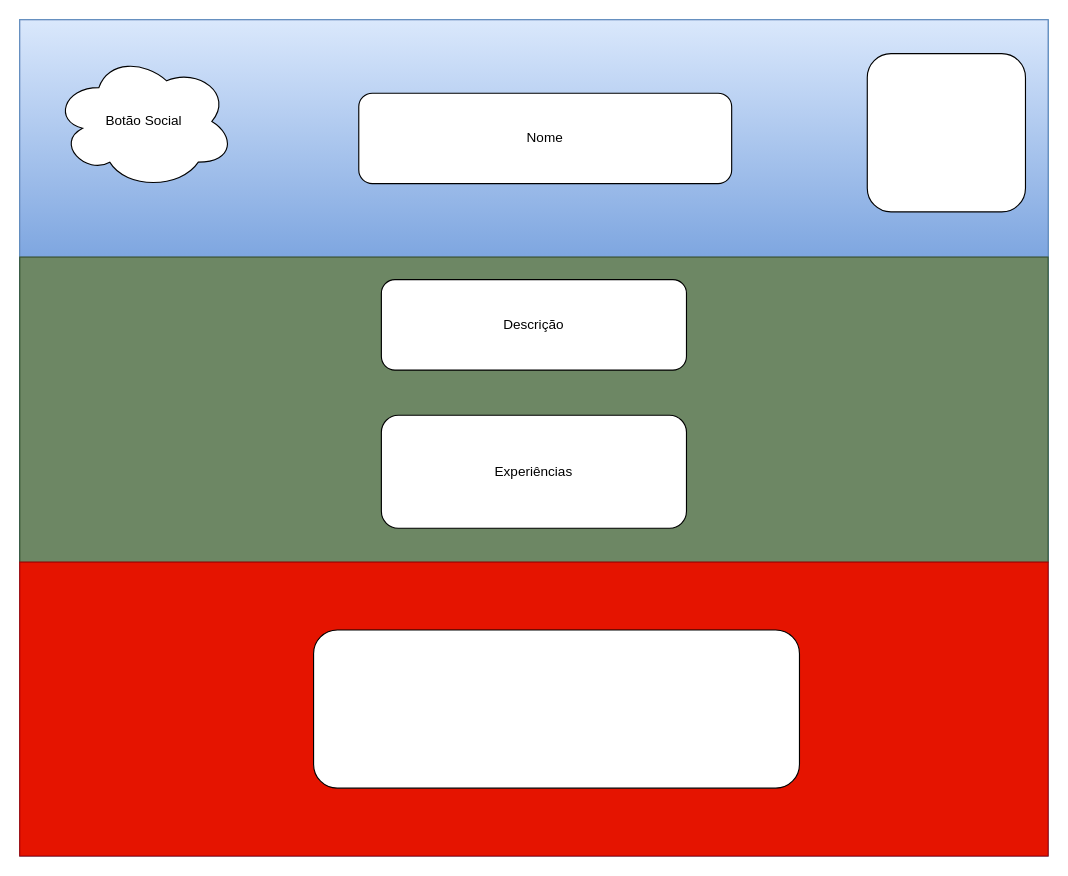
Image size: 1068x876. Some labels were removed from this diagram. The box of each missing label's shape, as (x1, y1, x2, y2) in pixels:
Foto: (866, 53, 1025, 212)
Redes Sociais: (312, 629, 799, 788)
